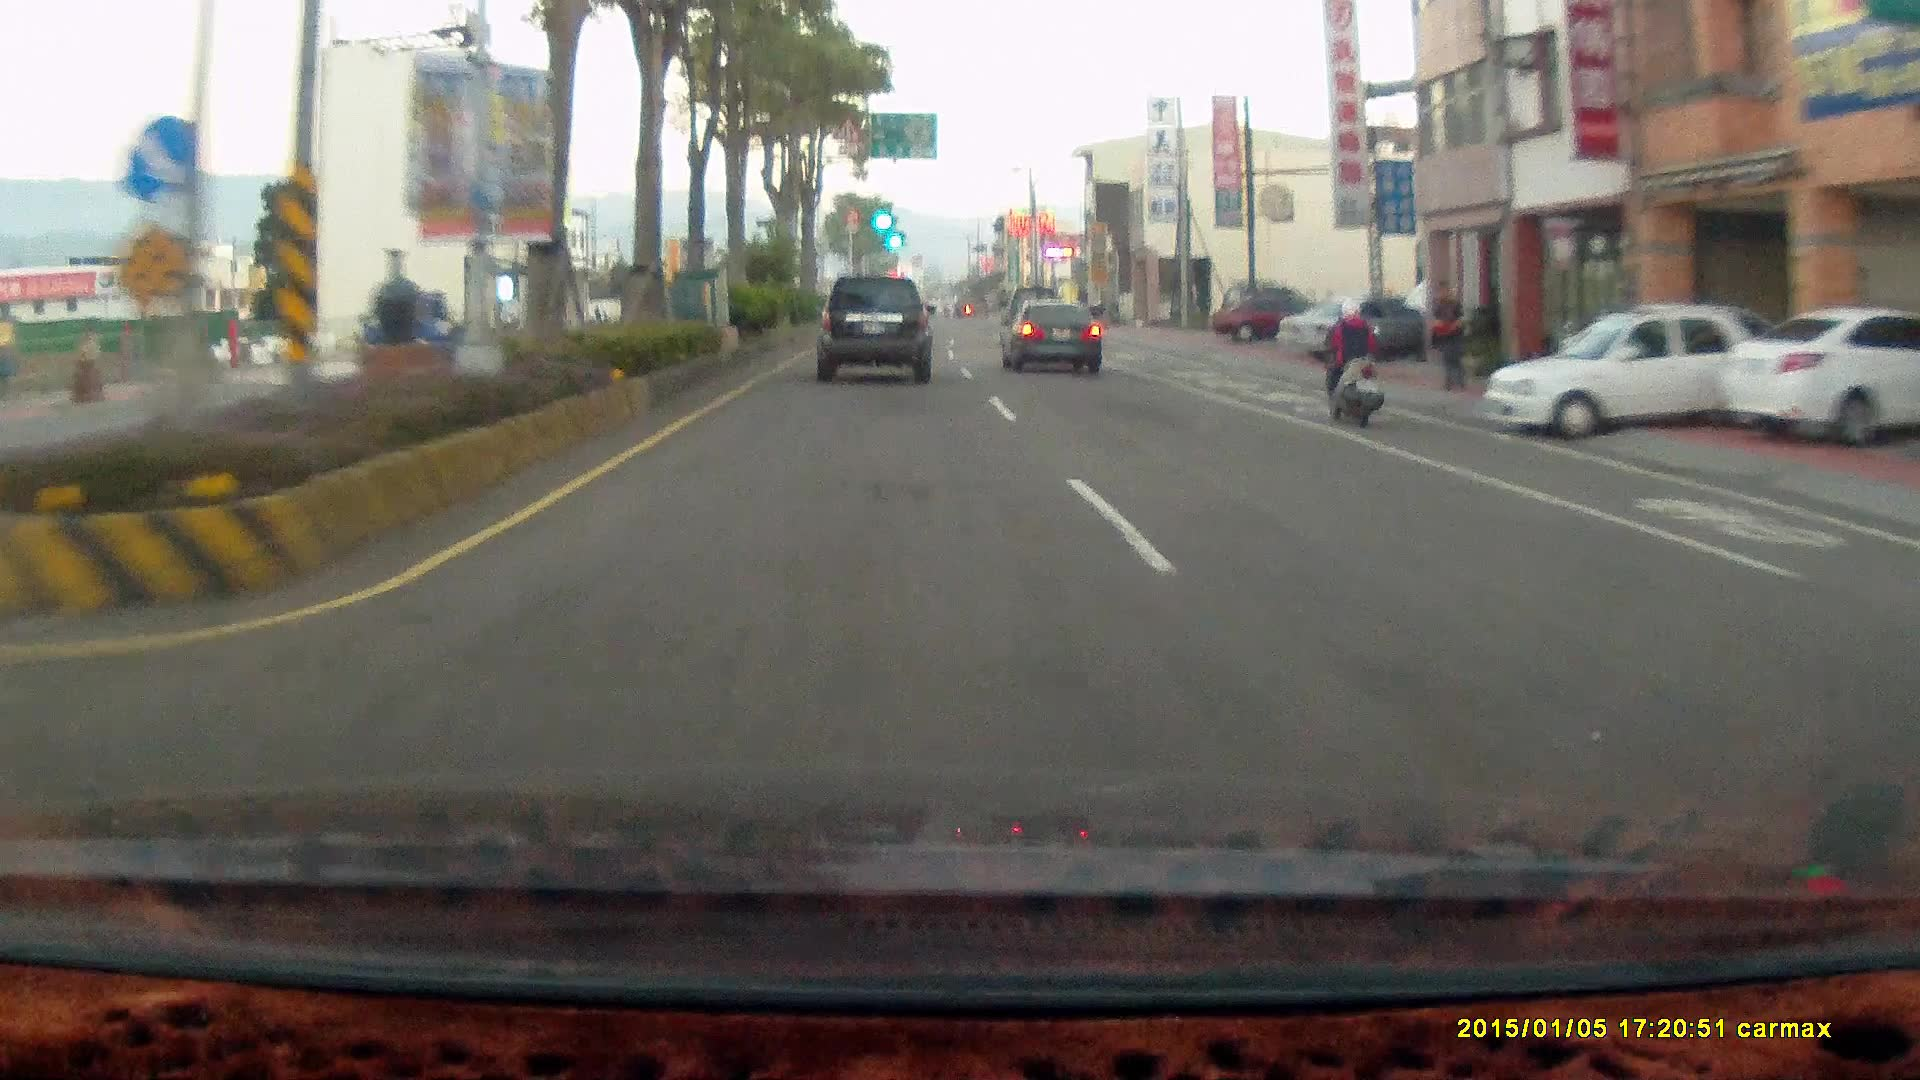pedestrian: (1424, 276, 1473, 388)
rider: (1307, 287, 1398, 437), (1318, 292, 1385, 423)
vehicle: (1484, 304, 1795, 445), (1483, 303, 1785, 436), (1721, 308, 1920, 448), (810, 271, 941, 390), (814, 271, 936, 380), (1275, 294, 1442, 365), (1276, 295, 1446, 362), (998, 294, 1102, 371), (1001, 299, 1105, 374), (1210, 294, 1329, 339)
